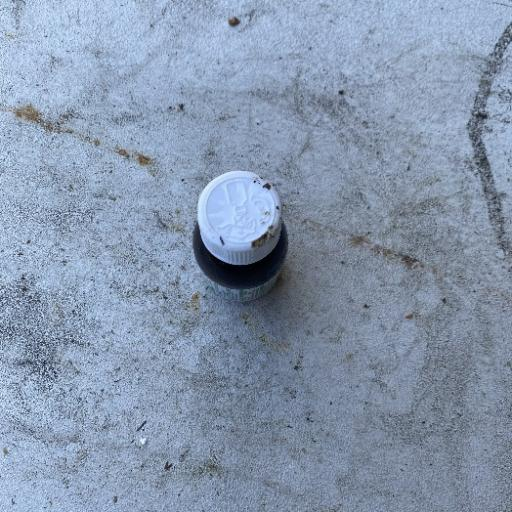Plastic: (190, 167, 290, 303)
